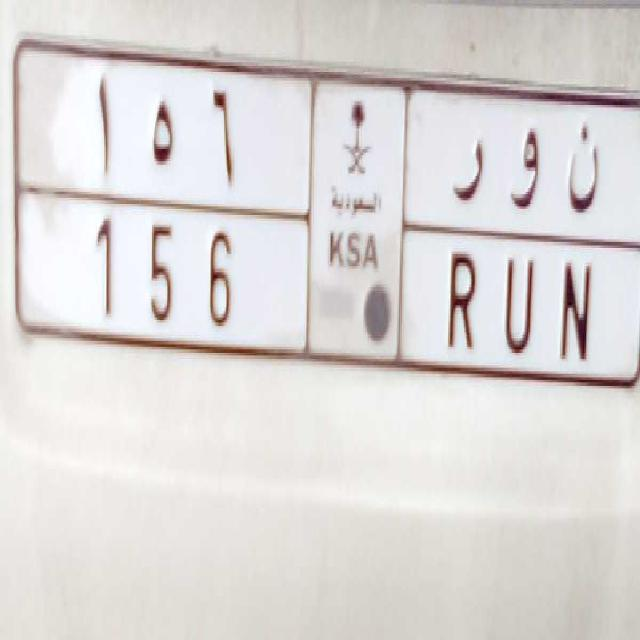license_plate: (57, 210, 618, 380)
